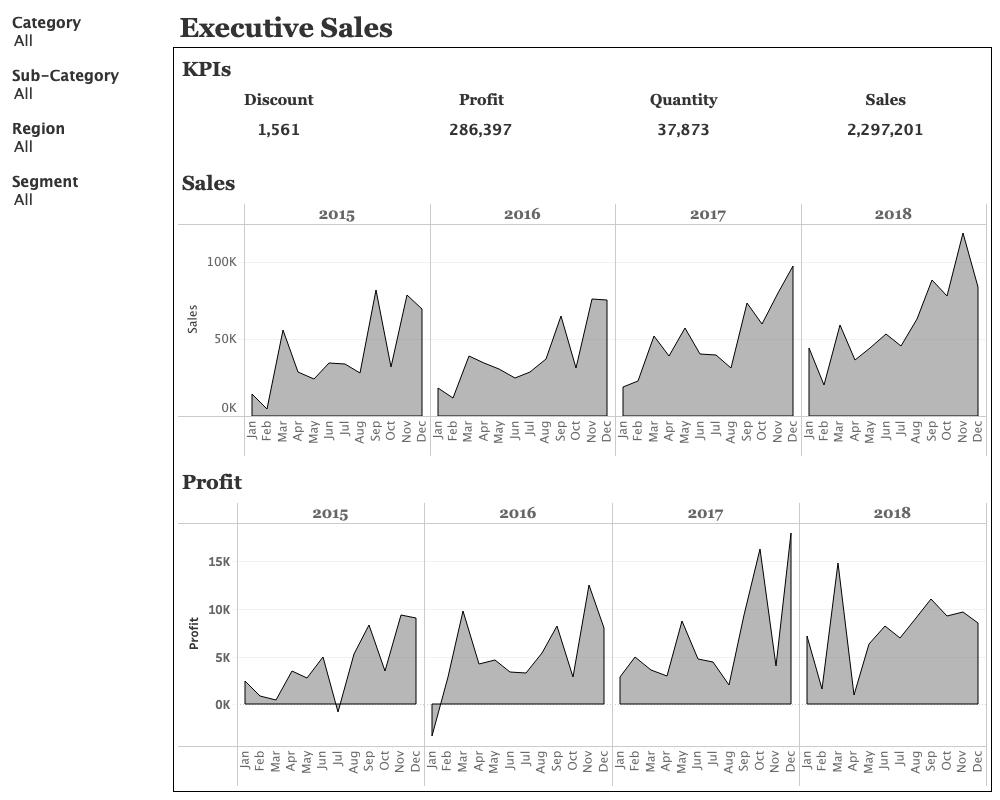

The page's visual inventory and layout, read from the dashboard file:
{"tool":"tableau","page":{"name":"Executive Sales","canvas":[1000,800],"ordinal":0},"visuals":[{"type":"worksheet","box":[0,0,1000,800]},{"type":"worksheet","param":"vert","box":[8,8,165,784]},{"type":"worksheet","title":"KPIs","mark":"Automatic","param":"[federated.05qv8wl0zu9s4p16x01n20ogpu1w].[none:Category:nk]","box":[8,8,165,53]},{"type":"worksheet","param":"horz","box":[173,8,819,784]},{"type":"worksheet","param":"vert","box":[173,8,819,784]},{"type":"worksheet","box":[173,8,819,39]},{"type":"worksheet","box":[173,47,819,745]},{"type":"worksheet","title":"KPIs","mark":"Automatic","box":[174,48,817,114]},{"type":"worksheet","title":"KPIs","mark":"Automatic","param":"[federated.05qv8wl0zu9s4p16x01n20ogpu1w].[none:Sub-Category:nk]","box":[8,61,165,53]},{"type":"worksheet","title":"KPIs","mark":"Automatic","param":"[federated.05qv8wl0zu9s4p16x01n20ogpu1w].[none:Region:nk]","box":[8,114,165,53]},{"type":"worksheet","title":"Sales","mark":"Area","rows":["Sales"],"cols":["Order Date","Order Date"],"box":[174,162,817,299]},{"type":"worksheet","title":"KPIs","mark":"Automatic","param":"[federated.05qv8wl0zu9s4p16x01n20ogpu1w].[none:Segment:nk]","box":[8,167,165,53]},{"type":"worksheet","title":"Profit","mark":"Area","rows":["Profit"],"cols":["Order Date","Order Date"],"box":[174,461,817,330]}]}

Visuals, with their boxes in screenshot pixels (x1, y1, x2, y2), scaled from the page's 1000x800 canvas onto the 1000x800 screenshot:
worksheet: pyautogui.locateOnScreen(0, 0, 999, 799)
worksheet: pyautogui.locateOnScreen(8, 8, 173, 792)
"KPIs" worksheet: pyautogui.locateOnScreen(8, 8, 173, 61)
worksheet: pyautogui.locateOnScreen(173, 8, 992, 792)
worksheet: pyautogui.locateOnScreen(173, 8, 992, 792)
worksheet: pyautogui.locateOnScreen(173, 8, 992, 47)
worksheet: pyautogui.locateOnScreen(173, 47, 992, 792)
"KPIs" worksheet: pyautogui.locateOnScreen(174, 48, 991, 162)
"KPIs" worksheet: pyautogui.locateOnScreen(8, 61, 173, 114)
"KPIs" worksheet: pyautogui.locateOnScreen(8, 114, 173, 167)
"Sales" worksheet (Area marks): pyautogui.locateOnScreen(174, 162, 991, 461)
"KPIs" worksheet: pyautogui.locateOnScreen(8, 167, 173, 220)
"Profit" worksheet (Area marks): pyautogui.locateOnScreen(174, 461, 991, 791)
